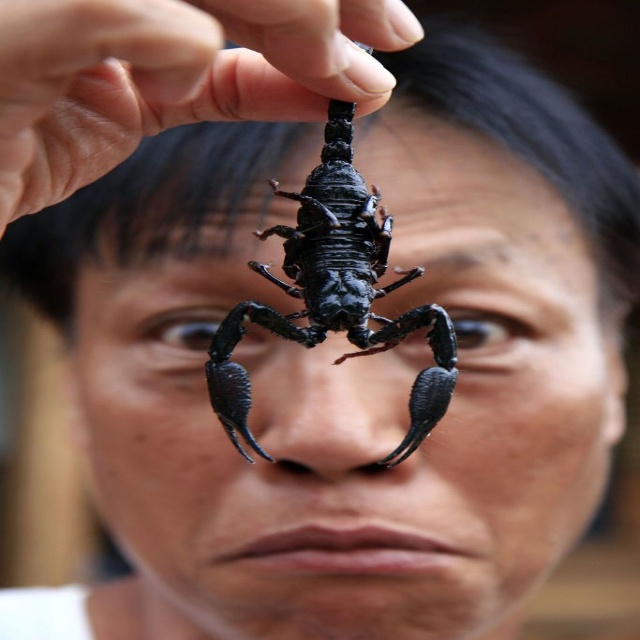Scorpion: (204, 38, 463, 470)
